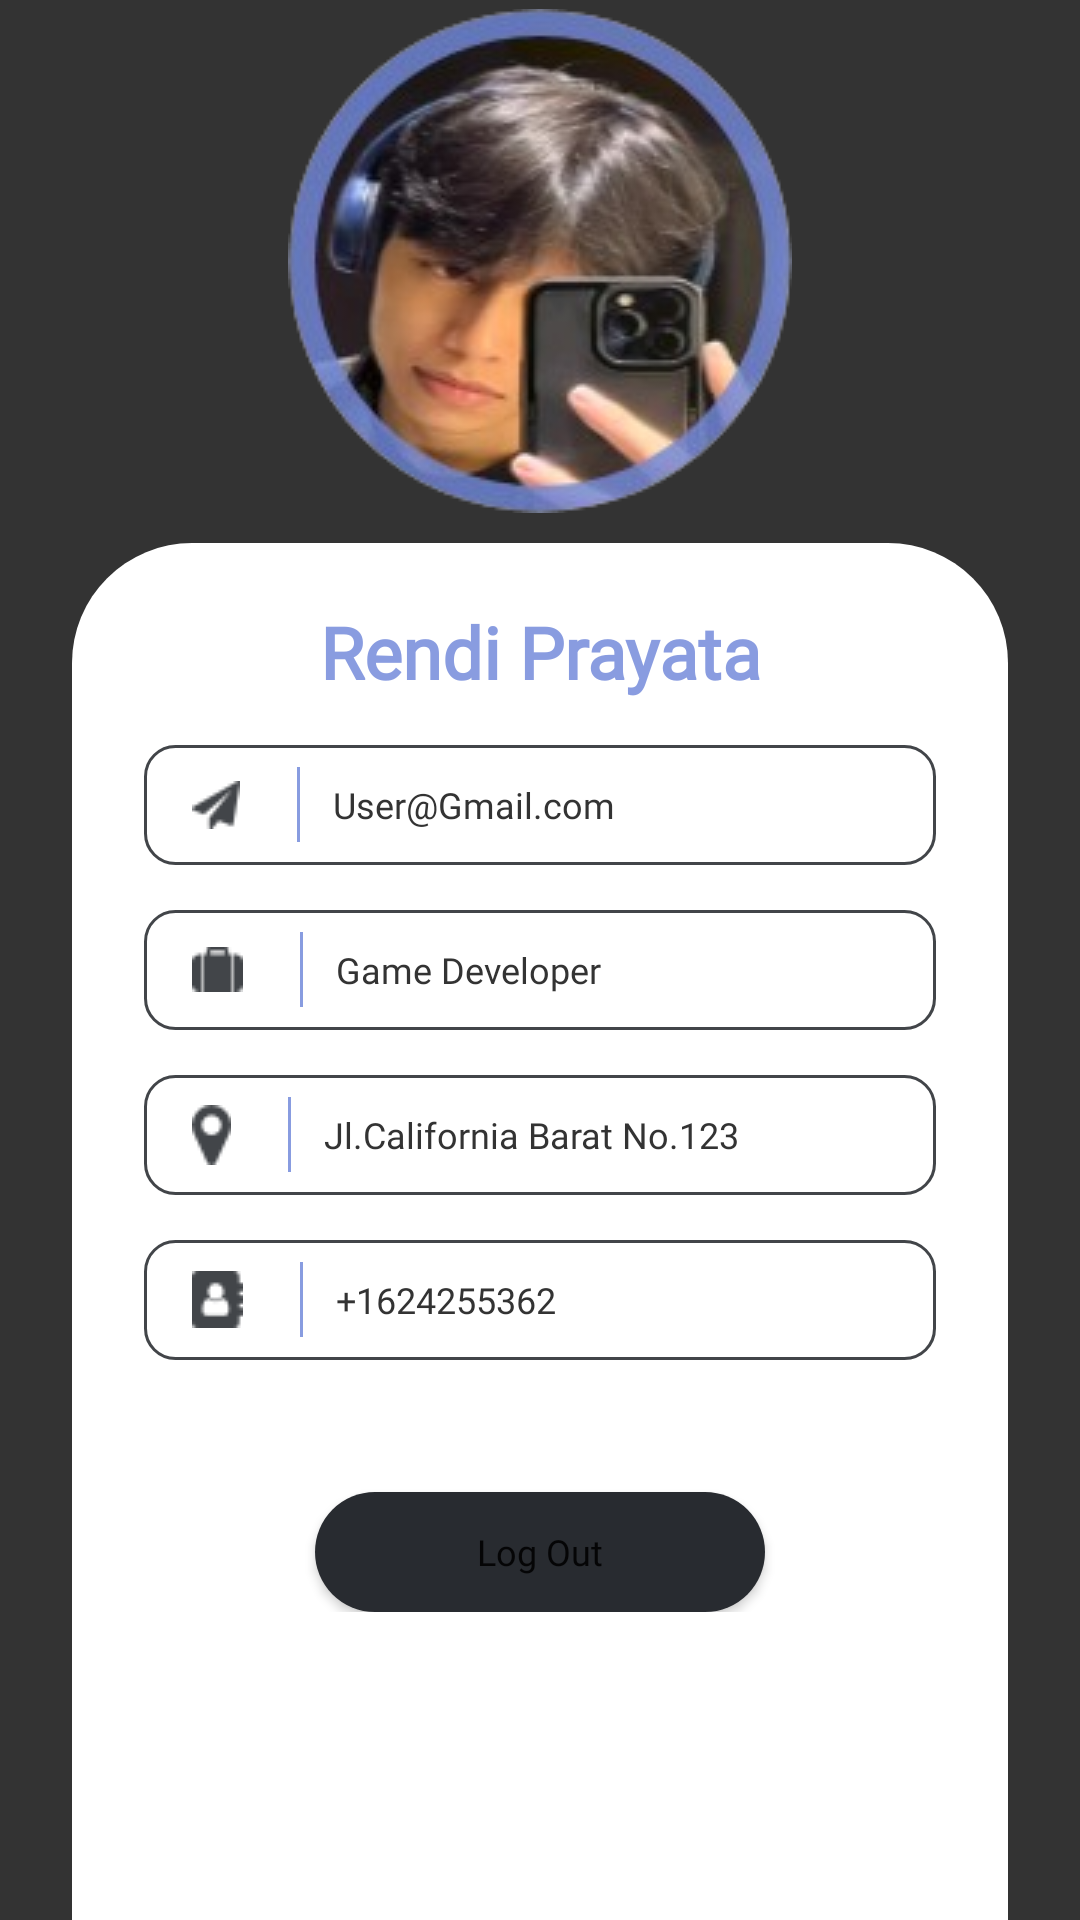

Icons on this 1080 x 1920 Android screen, each with its box as (x1, y1, x2, y2):
contactimg: (192, 1271, 243, 1328)
emailimg: (192, 781, 240, 829)
jobsimg: (192, 947, 243, 992)
locationimg: (192, 1105, 231, 1165)
